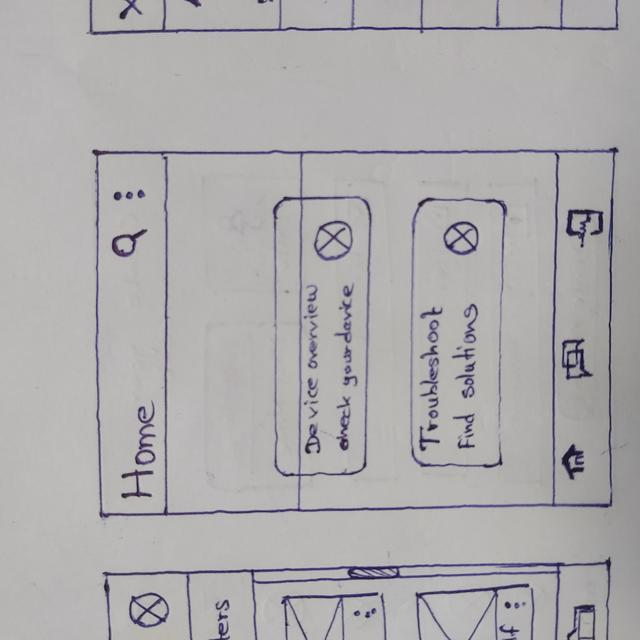ActionButton: (97, 224, 167, 262), (98, 180, 166, 214)
AppBar: (96, 151, 167, 517)
BottomNavBar: (555, 149, 613, 507)
BottomNavItems: (557, 161, 610, 277), (551, 310, 612, 407), (553, 417, 612, 504)
CardView: (272, 195, 368, 476), (409, 196, 503, 468)
Icon: (561, 337, 594, 382), (565, 206, 604, 239), (110, 228, 148, 258), (561, 442, 586, 481), (110, 187, 147, 202)
MainLayout: (94, 148, 614, 510)
RoundedImage: (314, 220, 353, 261), (442, 220, 479, 253)
TextView: (119, 400, 156, 501), (304, 284, 324, 454), (419, 306, 442, 449), (459, 304, 476, 448), (340, 283, 351, 448)
